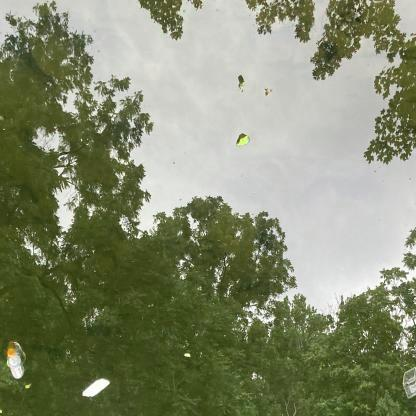Plastic: (3, 346, 26, 381), (401, 368, 416, 401)
Trash: (80, 376, 113, 402)
